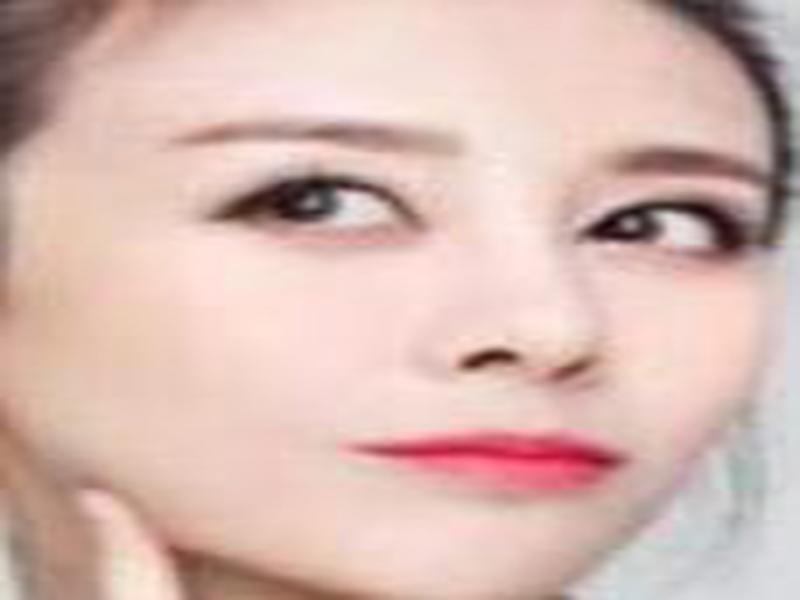without_mask: (12, 6, 783, 597)
